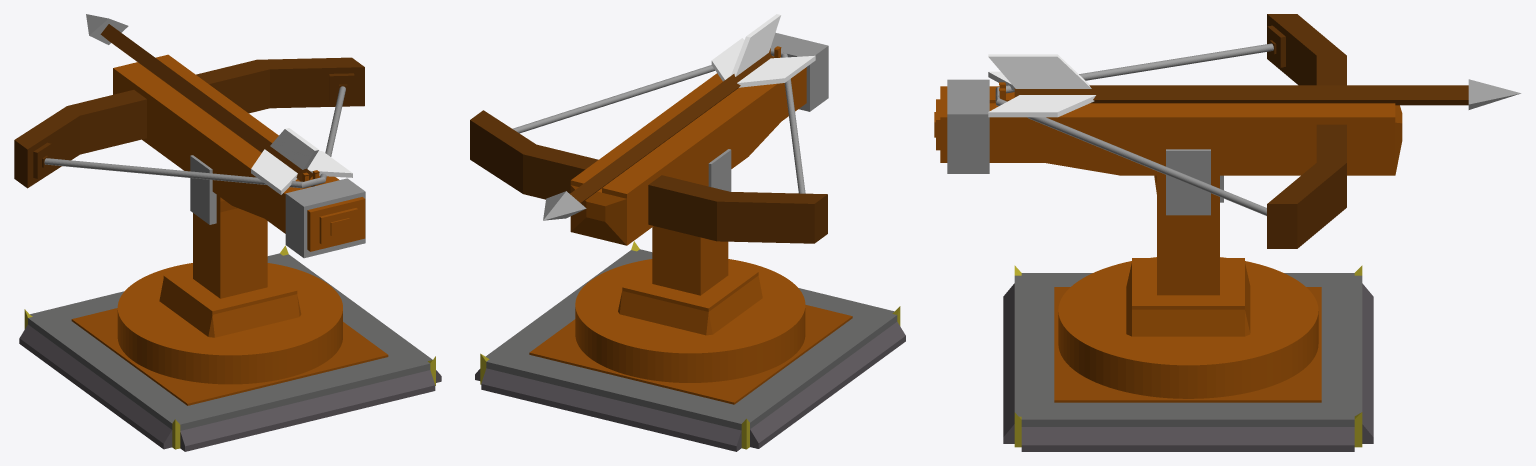
Rendered from Ballista.fbx.
The picture shows the model from 3 angles, left to right: view 1: azimuth 30°, elevation 25°; view 2: azimuth 150°, elevation 25°; view 3: azimuth 270°, elevation 25°; orthographic projection. The views are drawn at different scales.
Visible parts, largest first — view 1: Bow, platform, arrow; view 2: Bow, platform, arrow; view 3: Bow, platform, arrow.
Boxes of the visible parts, x1,y1,x2,y2 form: Bow: (14,54,365,384); platform: (19,245,441,451); arrow: (86,14,352,194); Bow: (470,32,828,382); platform: (475,241,905,451); arrow: (543,14,815,220); Bow: (934,14,1402,398); platform: (1003,265,1373,451); arrow: (988,54,1520,117).
Bounding box in the file's own units: 797 × 622 × 1040.
